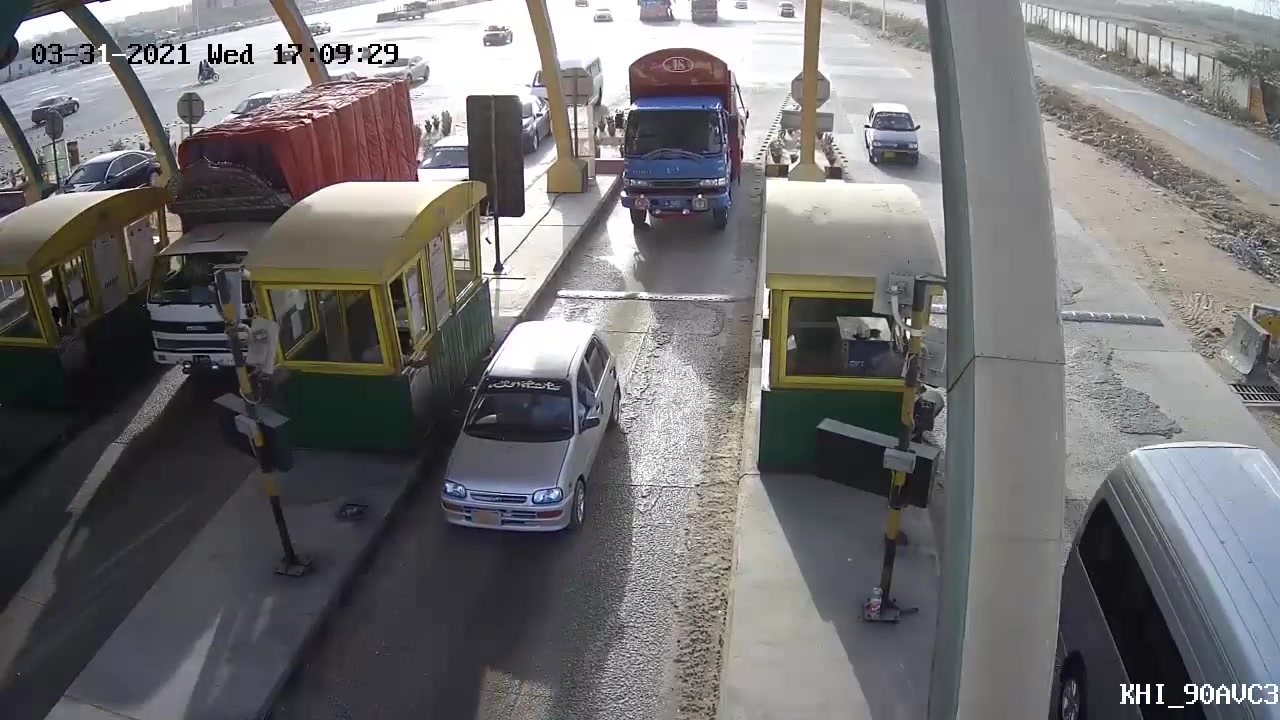F1: (422, 312, 634, 550)
F5: (612, 48, 753, 244)
